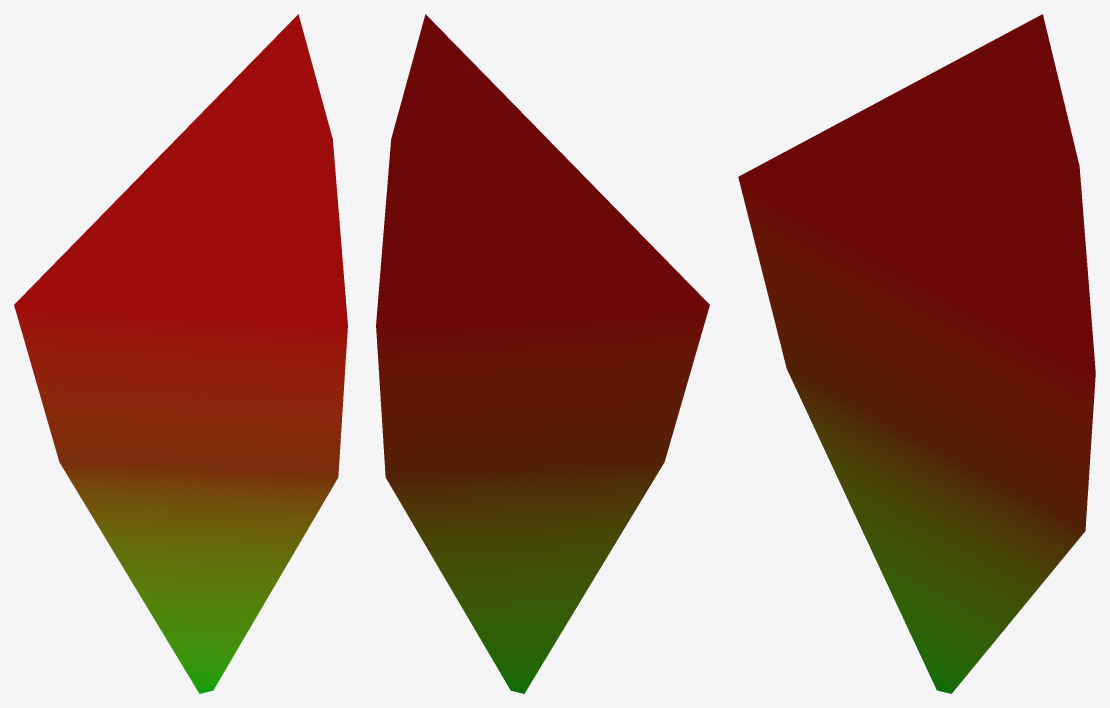
File: Var13_LOD4.fbx
3 views of the same model, side by side, from view 1: azimuth 30°, elevation 25°; view 2: azimuth 150°, elevation 25°; view 3: azimuth 330°, elevation 25° (orthographic). The views are drawn at different scales.
Parts seen in each view (by area): view 1: _2ne7_Var13_LOD4; view 2: _2ne7_Var13_LOD4; view 3: _2ne7_Var13_LOD4.
Part boxes in pixels (<box>): _2ne7_Var13_LOD4: <box>14,14,347,693</box>; _2ne7_Var13_LOD4: <box>376,14,709,693</box>; _2ne7_Var13_LOD4: <box>738,14,1095,693</box>.
Bounding box in the file's own units: 16.76 × 31.45 × 1.37e-06.
